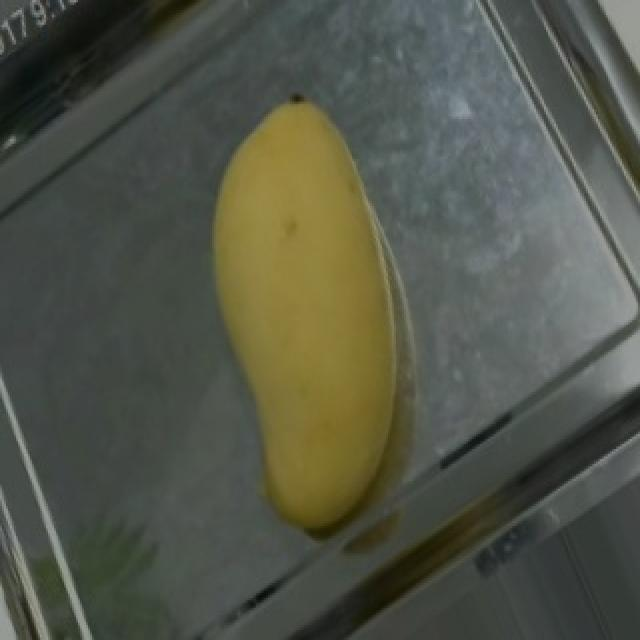fruit: (136, 59, 494, 514)
